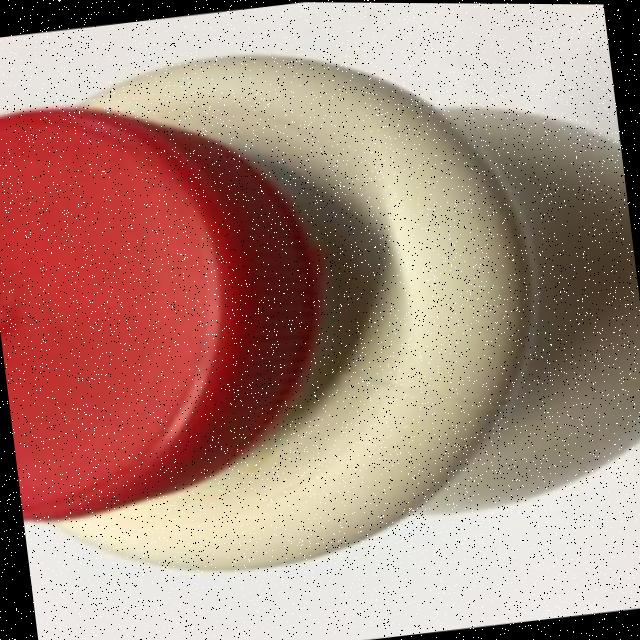plastic: (0, 6, 640, 598)
